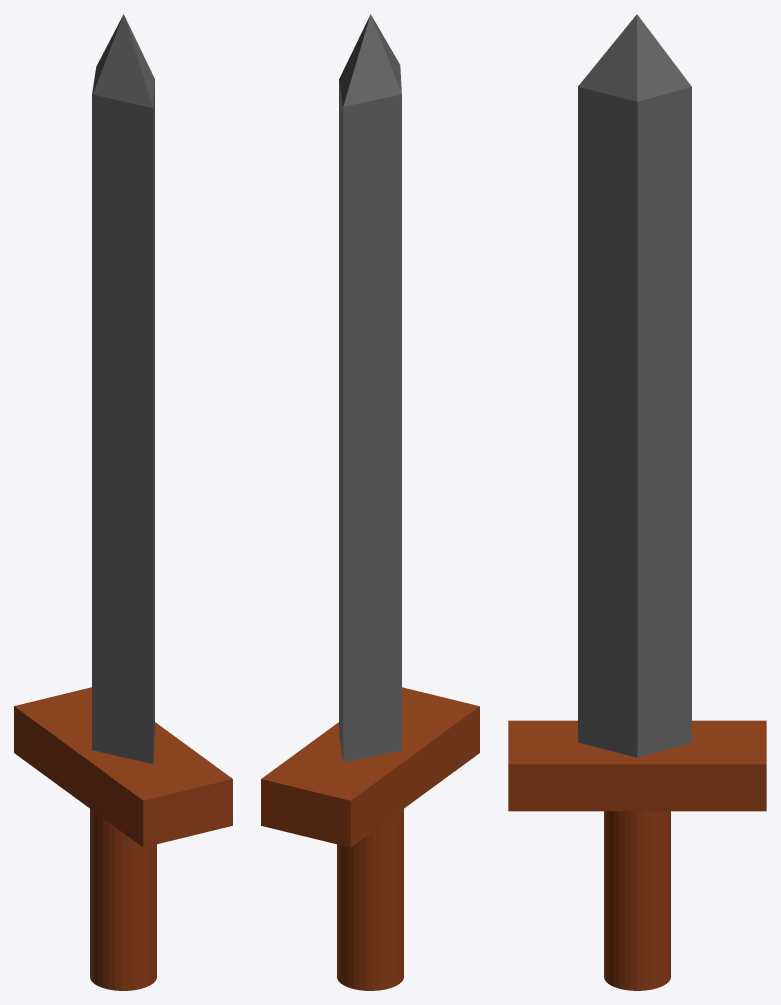
The model's file is Sword.fbx.
3 views of the same model, side by side, from view 1: azimuth 30°, elevation 25°; view 2: azimuth 150°, elevation 25°; view 3: azimuth 270°, elevation 25° (orthographic).
Visible parts, largest first — view 1: Blade, Guard, Handle; view 2: Blade, Guard, Handle; view 3: Blade, Guard, Handle.
Boxes of the visible parts, box(x1,y1,x2,y2) form: Blade: box(92, 14, 154, 764); Guard: box(14, 687, 232, 847); Handle: box(90, 809, 156, 990); Blade: box(339, 14, 401, 762); Guard: box(261, 687, 479, 847); Handle: box(337, 809, 403, 990); Blade: box(578, 14, 691, 757); Guard: box(508, 720, 766, 811); Handle: box(604, 811, 670, 990).
Bounding box in the file's own units: 10 × 103 × 25.
